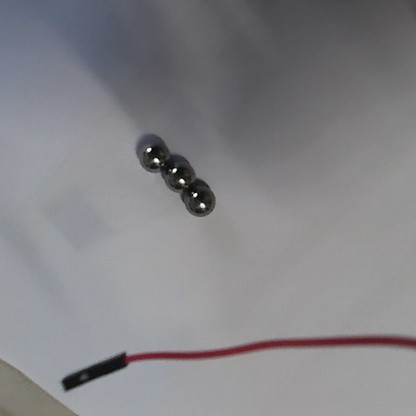ironball: (184, 179, 218, 218), (136, 138, 170, 173), (163, 155, 195, 191)
